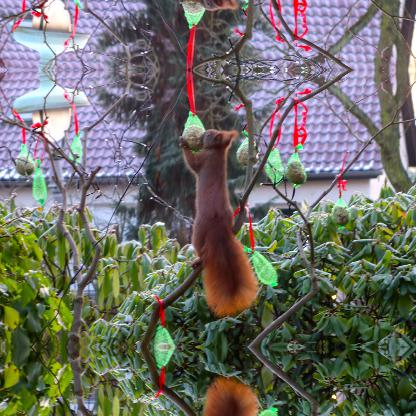Squirrel: (178, 126, 260, 314), (178, 378, 261, 415)
